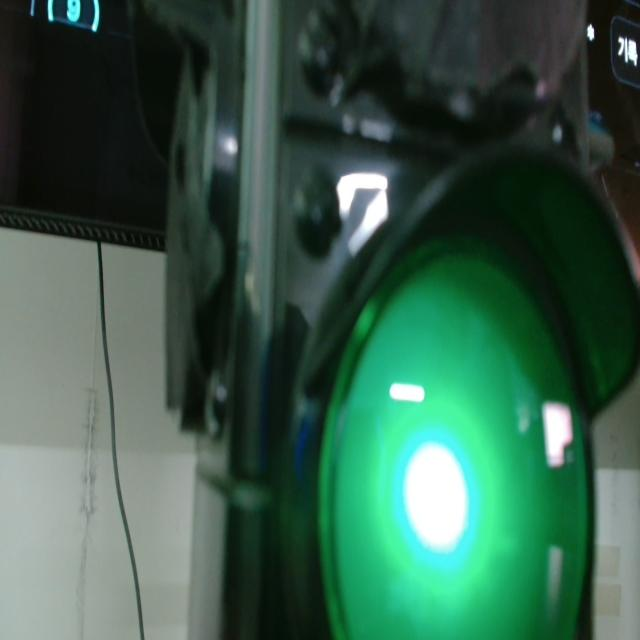green_light: (319, 245, 588, 639), (403, 443, 468, 552)
